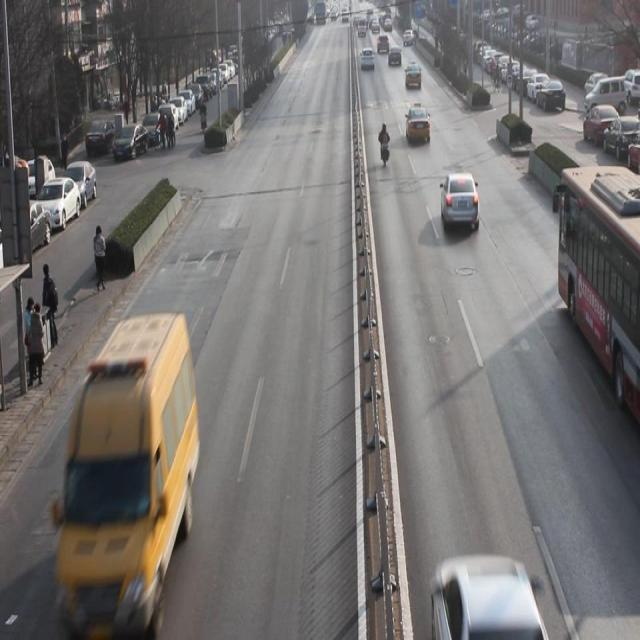car: (427, 550, 550, 640), (442, 168, 481, 242), (405, 105, 432, 149), (405, 58, 423, 93), (360, 47, 375, 74), (389, 44, 404, 70)
truck: (60, 308, 198, 631)
van: (556, 166, 640, 419)
